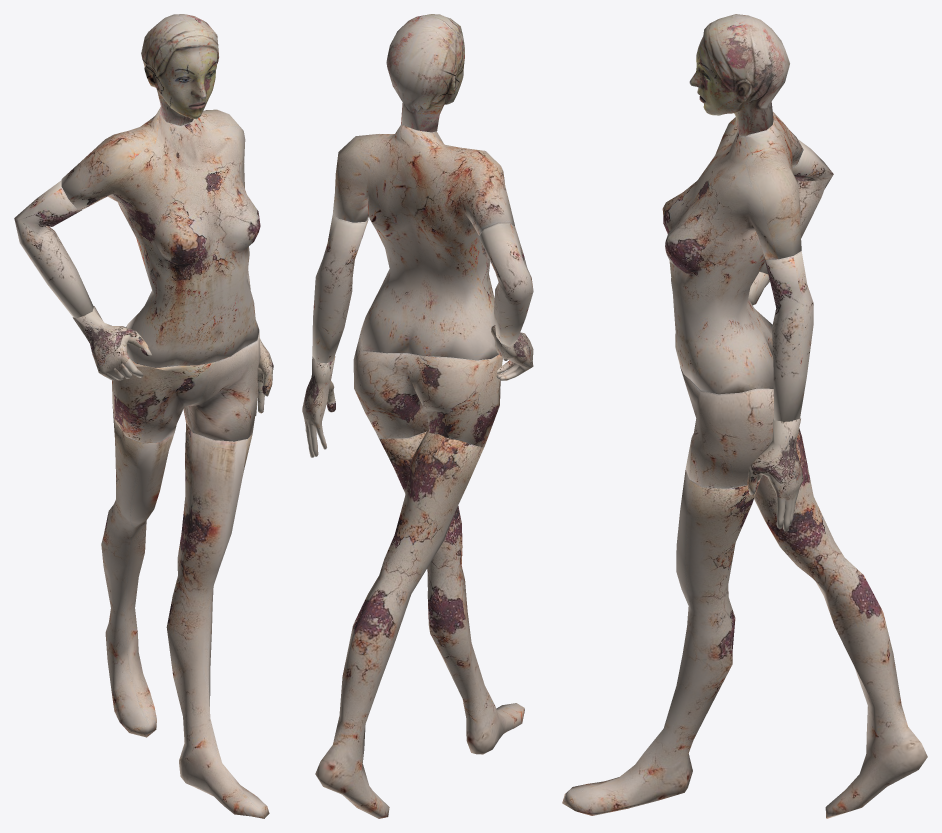
Rendered from mannequin.FBX.
3 renders of one model, left to right at view 1: azimuth 30°, elevation 25°; view 2: azimuth 150°, elevation 25°; view 3: azimuth 270°, elevation 25°, orthographic. The views are drawn at different scales.
Visible parts, largest first — view 1: mannequin; view 2: mannequin; view 3: mannequin.
Boxes of the visible parts, x1=… form: mannequin: x1=14, y1=14, x2=273, y2=818; mannequin: x1=302, y1=14, x2=533, y2=818; mannequin: x1=562, y1=14, x2=927, y2=818.
Size of the model in its own units: 0.5934 by 1.8 by 0.7478.
